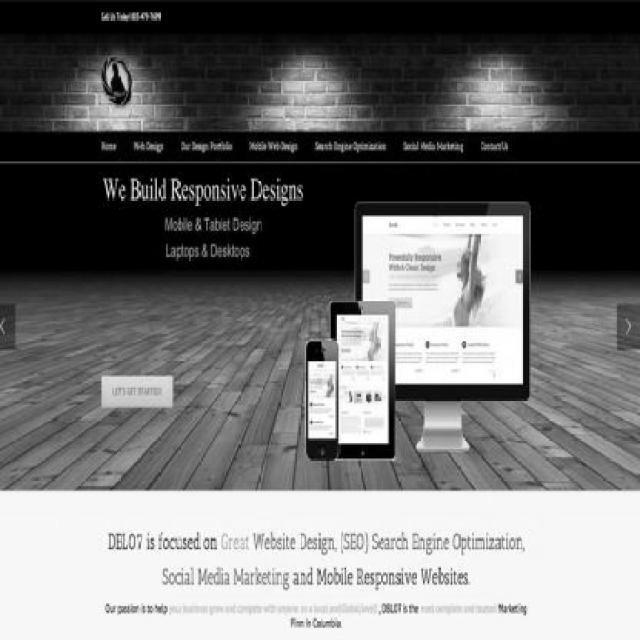fake: (303, 336, 340, 462)
